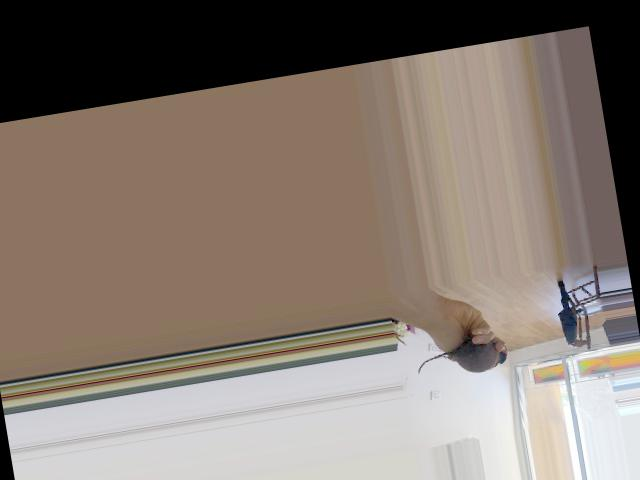beet: (415, 337, 510, 381)
